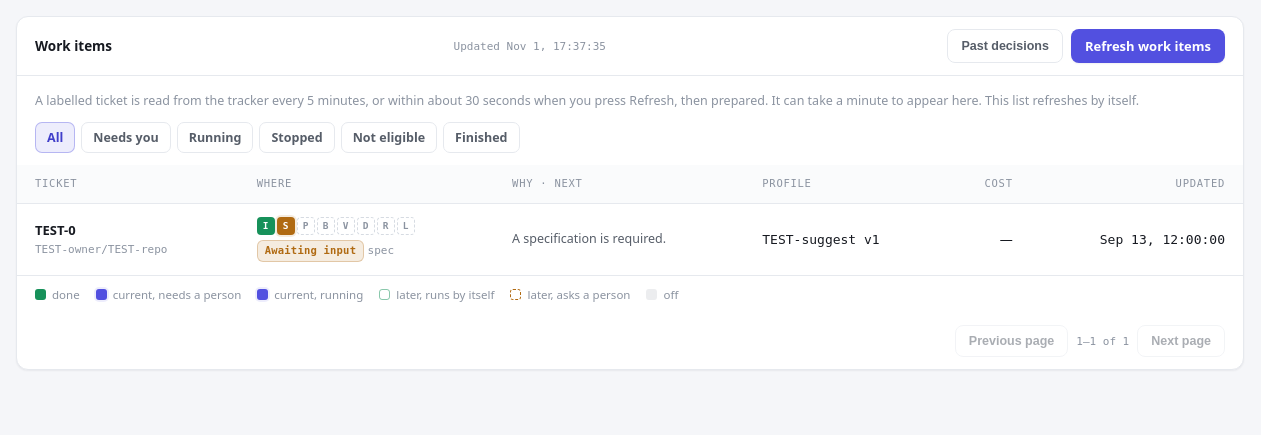
Scenario: re-reads the list and says so when a scan request fails
This screenshot has width=1261, height=435.
Expected: the text "when you press Refresh" is shown, [35,92,982,109]
Expected: the link "TEST-0" is shown, [35,220,76,238]
Click the button "Refresh work items". click: coordinates (1148, 46)
box: [1071,29,1225,63]
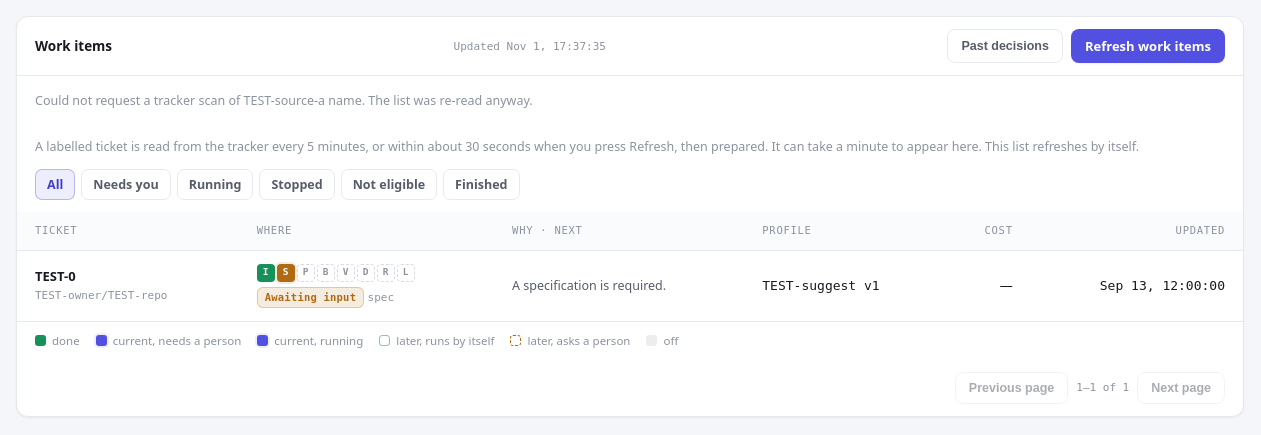
Expected: the link "TEST-0" is shown, [35,267,76,285]
Expected: the message shows "Could not request a tracker scan of TEST-source-a name.", [35,92,533,109]
